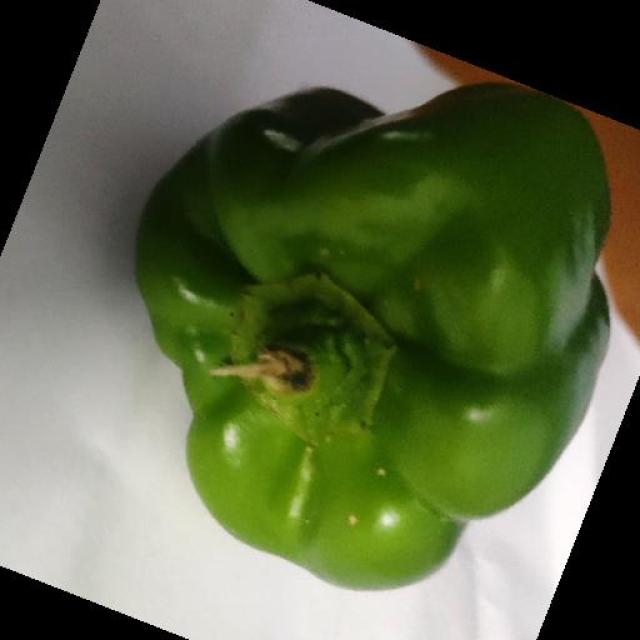Fresh_Capsicum: (197, 194, 493, 521)
